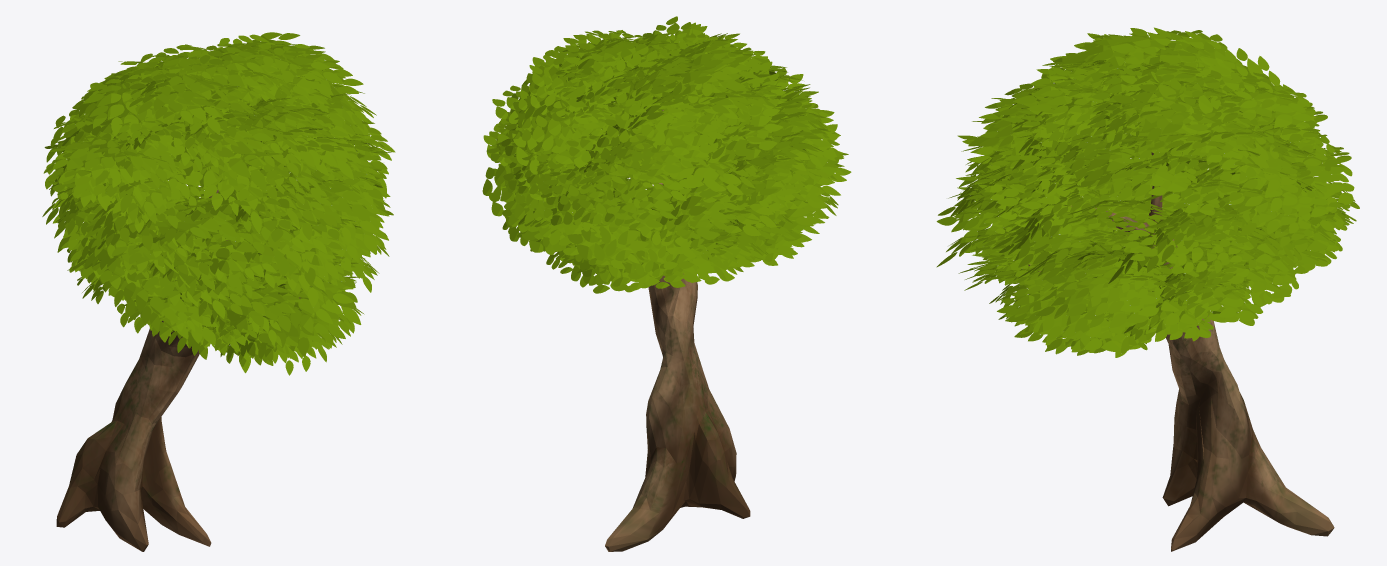
The model's file is tree_collection4.fbx.
3 renders of one model, left to right at view 1: azimuth 30°, elevation 25°; view 2: azimuth 150°, elevation 25°; view 3: azimuth 270°, elevation 25°, orthographic. The views are drawn at different scales.
Parts seen in each view (by area): view 1: l4; view 2: l4; view 3: l4.
Boxes of the visible parts, x1,y1,x2,y2 form: l4: [42, 32, 395, 551]; l4: [482, 16, 851, 551]; l4: [936, 27, 1359, 551].
Size of the model in its own units: 428 by 541 by 453.
